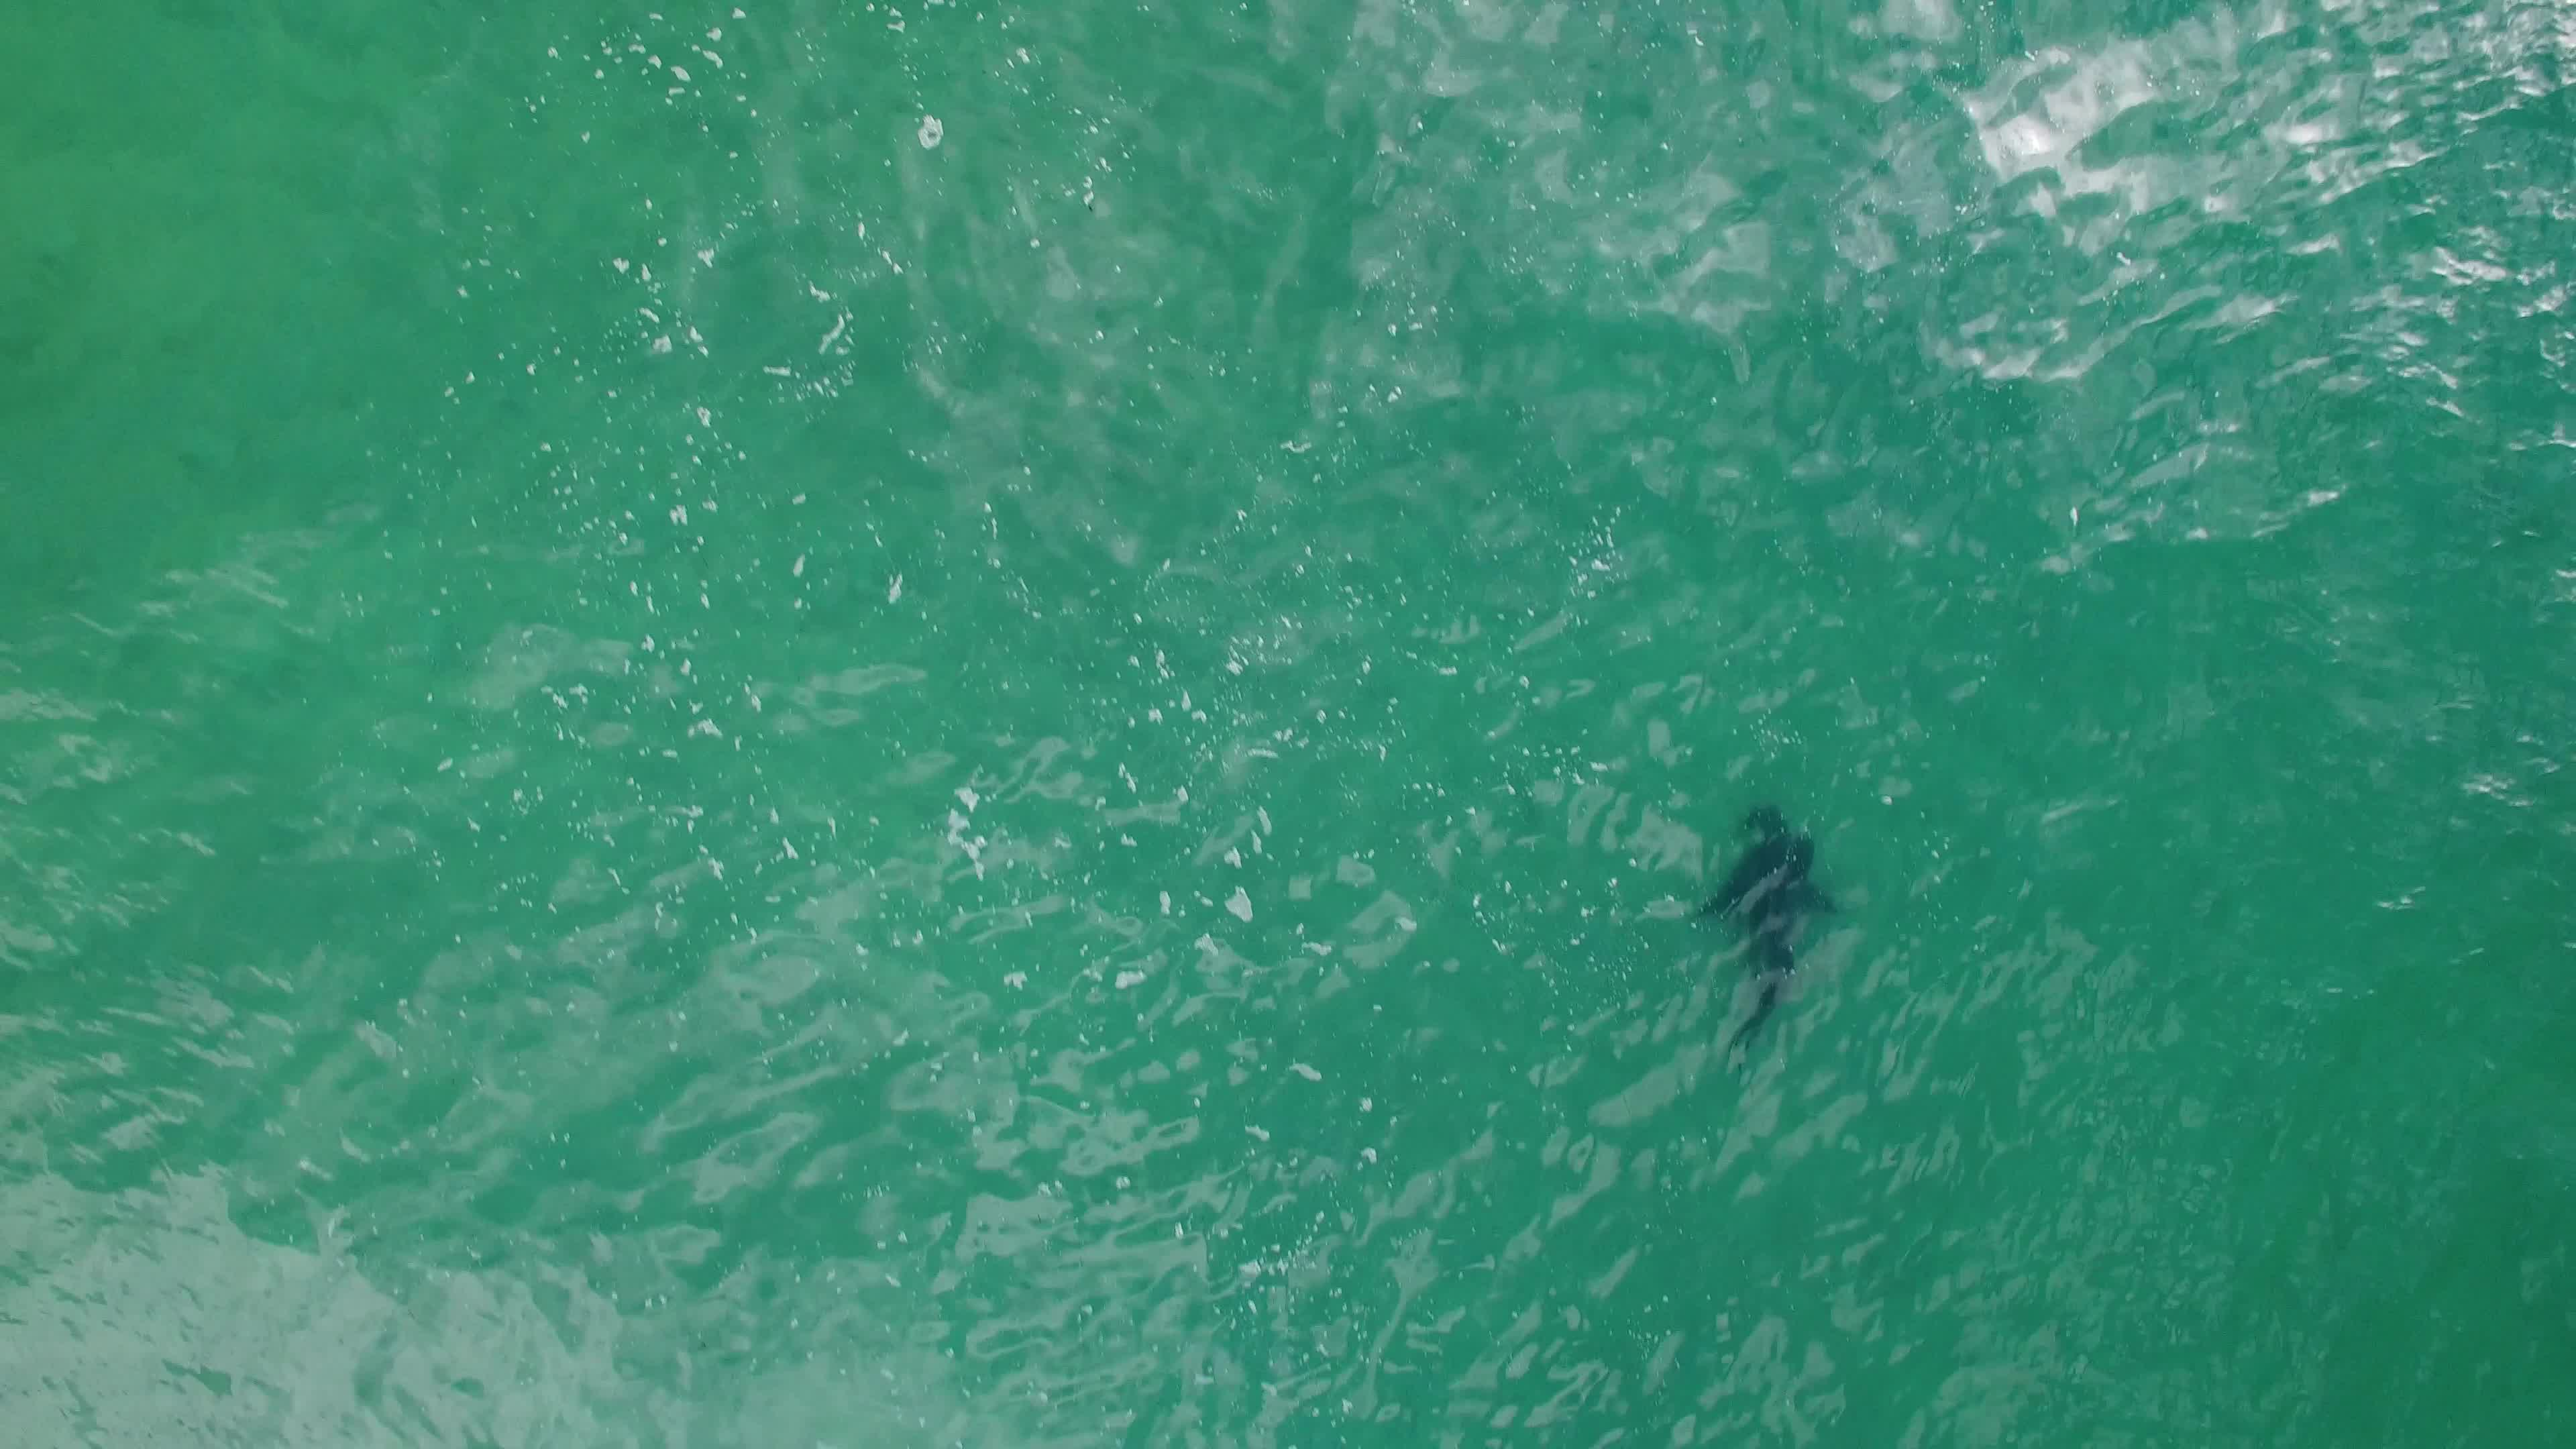shark: (1697, 794, 1844, 1054)
